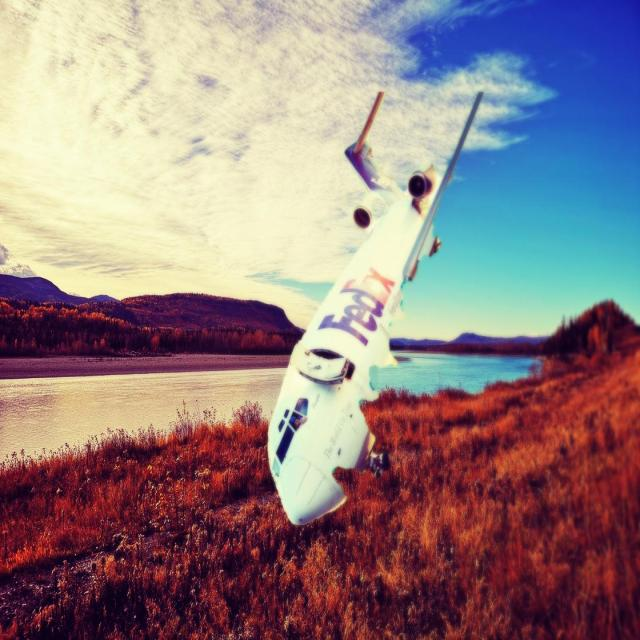airplane: (258, 88, 484, 527)
